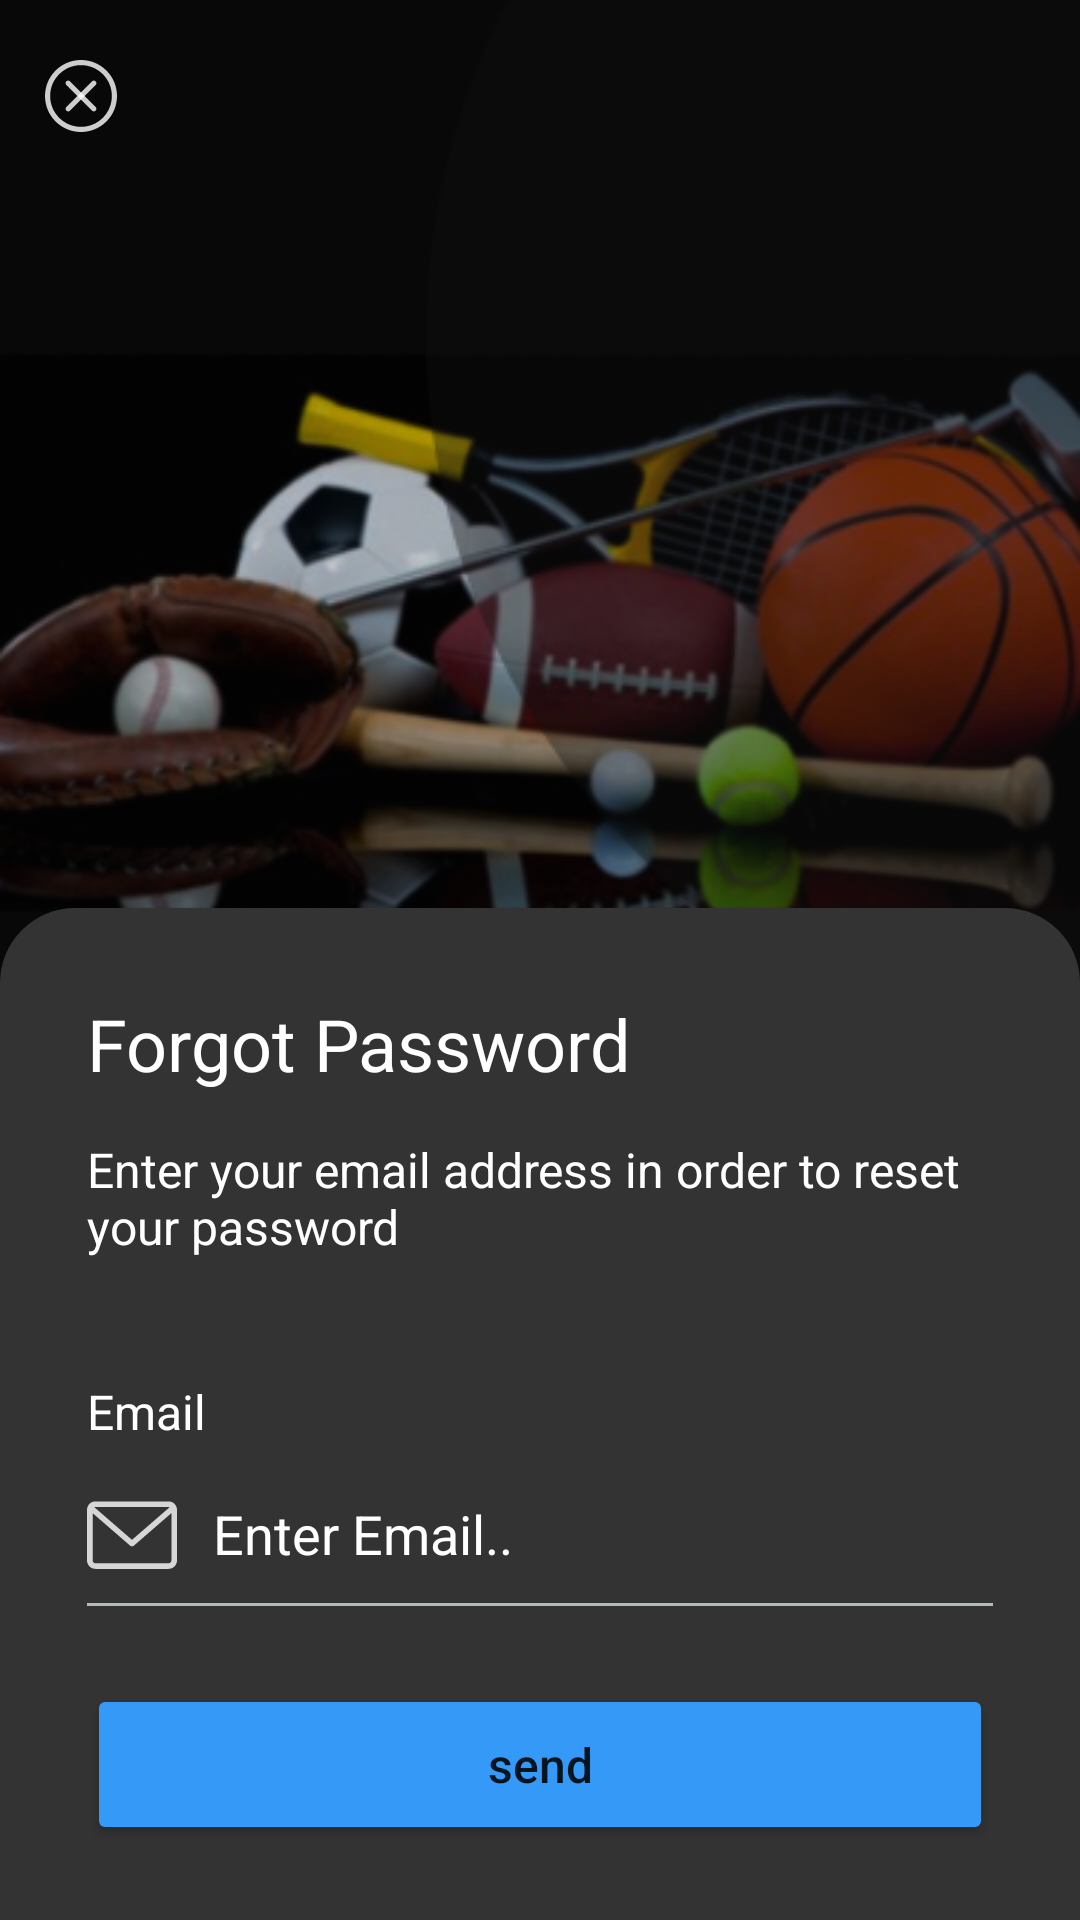

Screen size 1080x1920. Icon name, then its center in pixels as point (x, y):
cross: point (81, 96)
